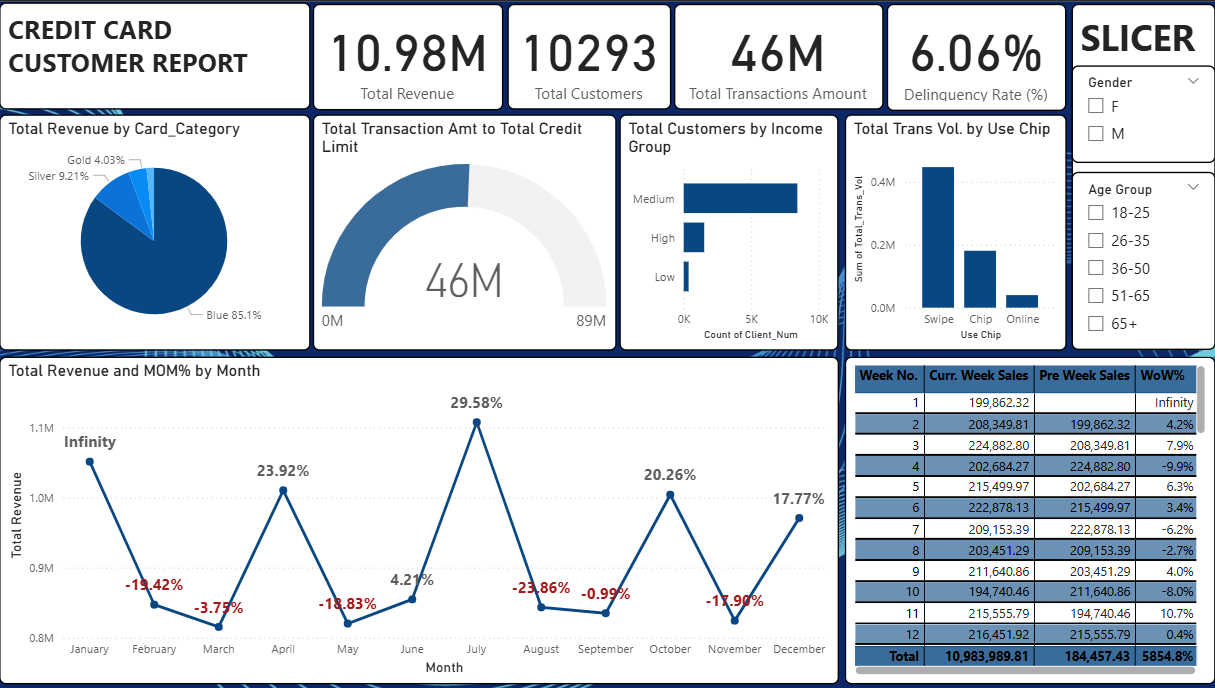

The page's visual inventory and layout, read from the dashboard file:
{"tool":"powerbi","page":{"name":"Credit Card Customer Report","canvas":[1280,720],"ordinal":0},"visuals":[{"type":"textbox","box":[1125.7,3,150.9,352.1],"z":0},{"type":"card","fields":{"Values":["CreditCard.Total Revenue"]},"box":[332.5,2.9,199.2,111.3],"z":1000},{"type":"card","fields":{"Values":["CreditCard.Total Customers"]},"box":[535.5,3,171.6,110.9],"z":2000},{"type":"card","fields":{"Values":["CreditCard.Delinquency Rate (%)"]},"box":[933.4,3,187.9,112.4],"z":3000},{"type":"card","fields":{"Values":["CreditCard.Total Transactions Amount"]},"box":[711,3,218.9,110.9],"z":4000},{"type":"pieChart","fields":{"Category":["CreditCard.Card_Category"],"Y":["CreditCard.Total Revenue"]},"box":[4.4,118.3,325.4,247],"z":5000},{"type":"tableEx","fields":{"Values":["DateTable.Weeknum","CreditCard.Total Revenue","CreditCard.Previous Week","CreditCard.WoW%"]},"box":[889.1,371.3,387.6,343.2],"z":6000},{"type":"lineChart","fields":{"Category":["DateTable.Date.Variation.Date Hierarchy.Month"],"Y":["CreditCard.Total Revenue"]},"box":[4.4,371.3,878.7,343.2],"z":7000},{"type":"slicer","fields":{"Values":["customer.Gender"]},"box":[1125.7,68,150.9,102.1],"z":8000},{"type":"slicer","fields":{"Values":["customer.Age Group"]},"box":[1125.7,179,150.9,186.4],"z":9000},{"type":"textbox","box":[4.4,1.5,325.4,112.4],"z":10000},{"type":"clusteredColumnChart","title":"Total Trans Vol. by Use Chip","fields":{"Category":["CreditCard.Use Chip"],"Y":["Sum(CreditCard.Total_Trans_Vol)"]},"box":[889.1,118.3,232.2,247],"z":11000},{"type":"barChart","title":"Total Customers by Income Group","fields":{"Category":["customer.Income Group"],"Y":["CountNonNull(customer.Client_Num)"]},"box":[653.8,118.3,229.3,247],"z":12000},{"type":"gauge","title":"Total Transaction Amt to Total Credit Limit","fields":{"MaxValue":["Sum(CreditCard.Credit_Limit)"],"Y":["Sum(CreditCard.Total_Trans_Amt)"]},"box":[332.8,118.3,318,247],"z":13000}]}

Visuals, with their boxes in screenshot pixels (x1, y1, x2, y2), scaled from the page's 1280x720 canvas onto the 1215x688 screenshot:
textbox: box=[1069, 3, 1212, 339]
card - CreditCard.Total Revenue: box=[316, 3, 505, 109]
card - CreditCard.Total Customers: box=[508, 3, 671, 109]
card - CreditCard.Delinquency Rate (%): box=[886, 3, 1064, 110]
card - CreditCard.Total Transactions Amount: box=[675, 3, 883, 109]
pieChart - CreditCard.Card_Category x CreditCard.Total Revenue: box=[4, 113, 313, 349]
tableEx - DateTable.Weeknum x CreditCard.Total Revenue: box=[844, 355, 1212, 683]
lineChart - DateTable.Date.Variation.Date Hierarchy.Month x CreditCard.Total Revenue: box=[4, 355, 838, 683]
slicer - customer.Gender: box=[1069, 65, 1212, 163]
slicer - customer.Age Group: box=[1069, 171, 1212, 349]
textbox: box=[4, 1, 313, 109]
"Total Trans Vol. by Use Chip" clusteredColumnChart: box=[844, 113, 1064, 349]
"Total Customers by Income Group" barChart: box=[621, 113, 838, 349]
"Total Transaction Amt to Total Credit Limit" gauge: box=[316, 113, 618, 349]
